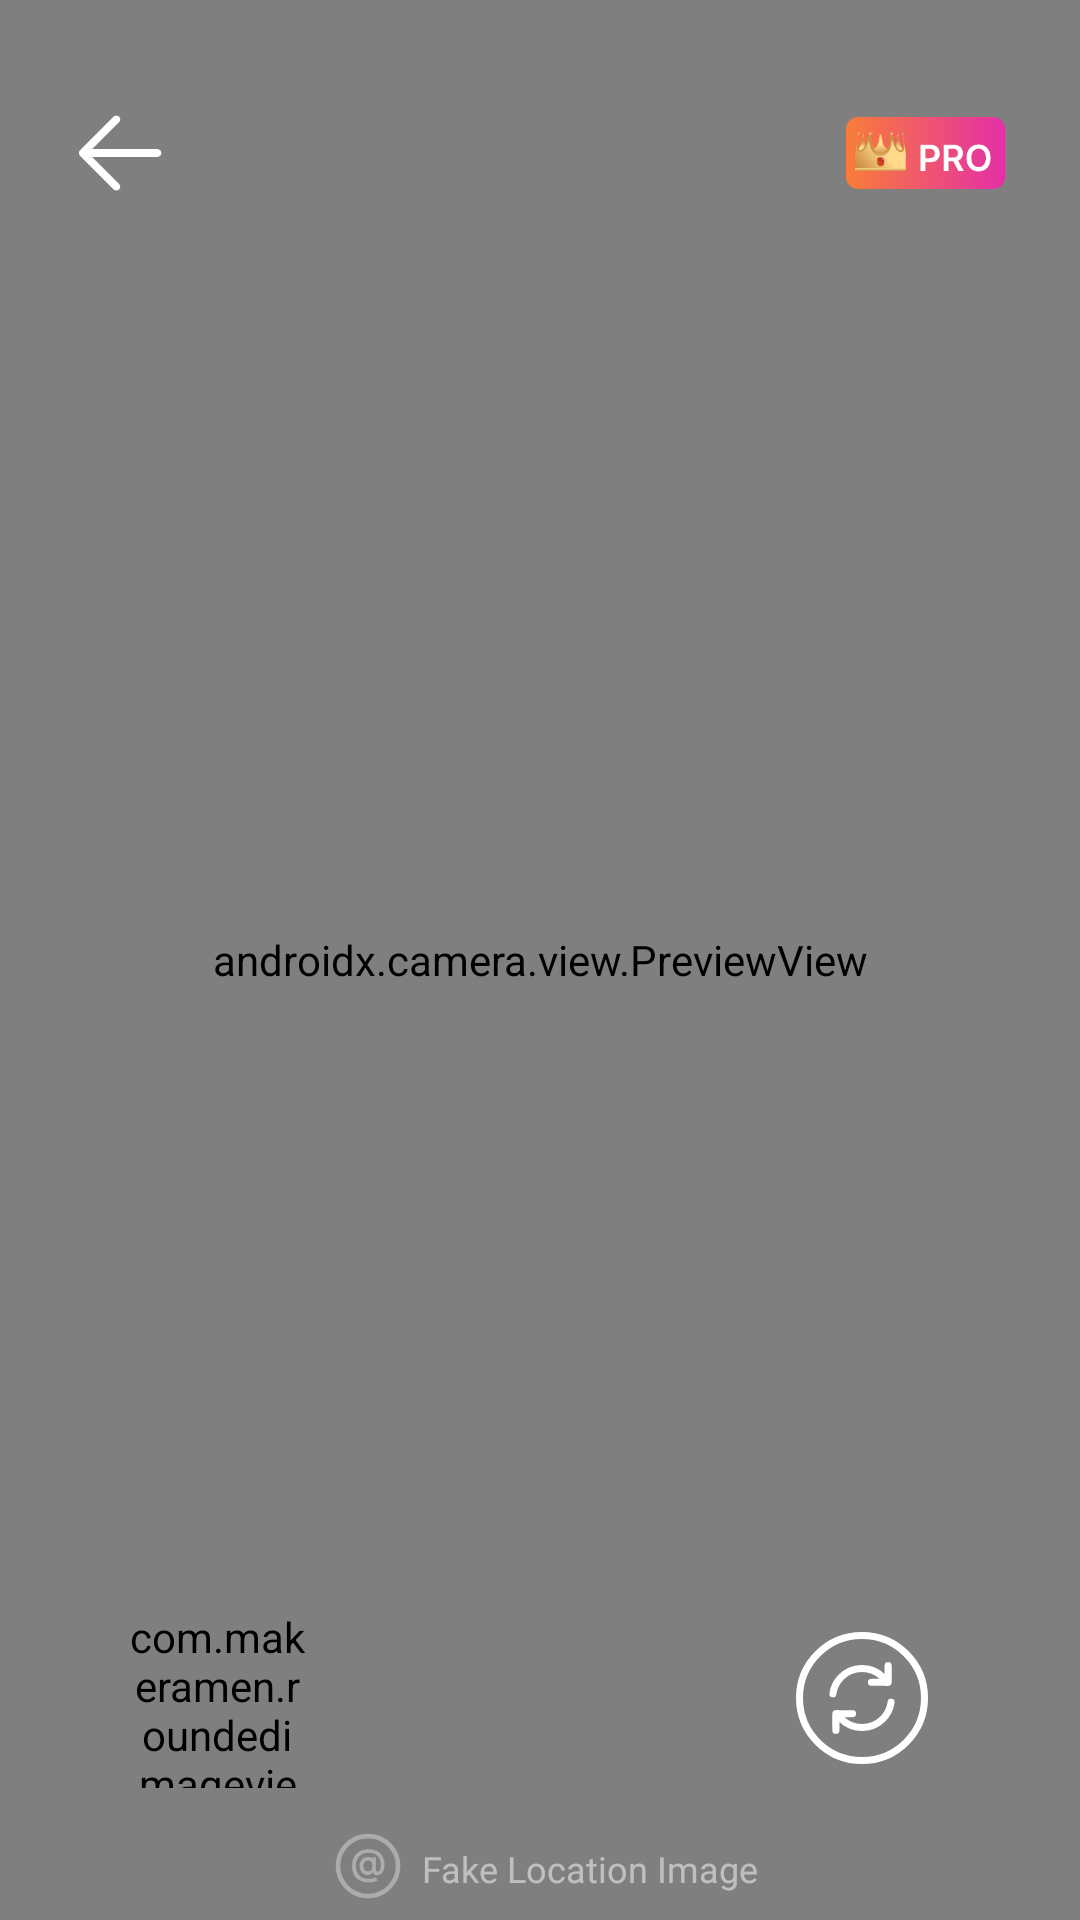

Screen size 1080*1920. Icon name, then its box in pixels as (x1, y1, x2, y2):
back: (79, 115, 162, 191)
switch camera: (796, 1632, 928, 1764)
